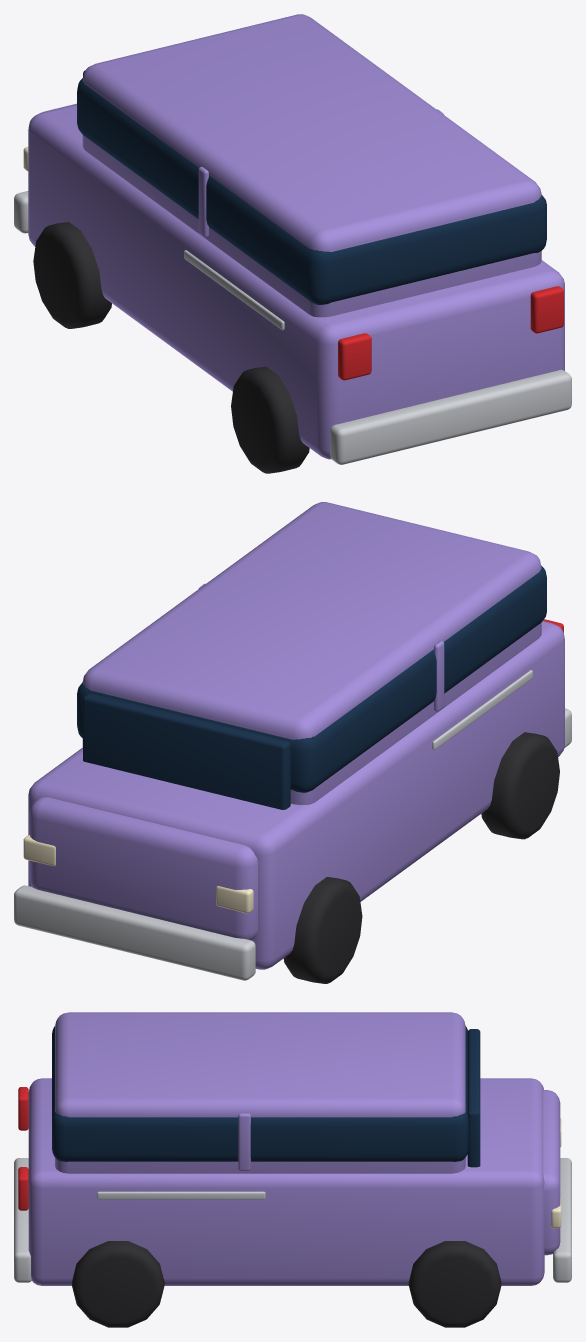
File: minivan-lavender.glb
3 views of the same model, one above another, from view 1: azimuth 30°, elevation 25°; view 2: azimuth 150°, elevation 25°; view 3: azimuth 270°, elevation 25° (orthographic). The views are drawn at different scales.
Parts seen in each view (by area): view 1: Van_Cabin, Van_Body, Van_GlassBand, Van_BumpR, Wheel_van2, Wheel_van0, Van_Tail_0, Van_Tail_1, Van_SlideRail_-1, Van_Bpil_-1, Van_BumpF; view 2: Van_Cabin, Van_Body, Van_Nose, Van_Windshield, Van_GlassBand, Van_BumpF, Wheel_van2, Wheel_van0, Van_SlideRail_-1, Van_Light_0, Van_Light_1, Van_Bpil_-1; view 3: Van_Body, Van_Cabin, Van_GlassBand, Wheel_van1, Wheel_van3, Van_Nose, Van_Windshield, Van_BumpF, Van_SlideRail_+1, Van_BumpR, Van_Bpil_+1, Van_Tail_0 (+1 smaller).
Boxes of the visible parts, box(x1,y1,x2,y2) form: Van_Cabin: box(82, 14, 541, 317); Van_Body: box(28, 104, 564, 459); Van_GlassBand: box(77, 78, 546, 304); Van_BumpR: box(330, 369, 571, 464); Wheel_van2: box(231, 366, 309, 473); Wheel_van0: box(33, 222, 111, 328); Van_Tail_0: box(338, 333, 371, 380); Van_Tail_1: box(530, 286, 563, 333); Van_SlideRail_-1: box(184, 250, 284, 330); Van_Bpil_-1: box(198, 166, 208, 237); Van_BumpF: box(14, 191, 28, 233); Van_Cabin: box(82, 502, 541, 804); Van_Body: box(28, 621, 564, 969); Van_Nose: box(29, 797, 257, 940); Van_Windshield: box(83, 693, 290, 809); Van_GlassBand: box(77, 565, 546, 792); Van_BumpF: box(14, 885, 255, 980); Wheel_van2: box(481, 732, 559, 839); Wheel_van0: box(283, 877, 362, 983); Van_SlideRail_-1: box(432, 670, 532, 750); Van_Light_0: box(216, 886, 253, 913); Van_Light_1: box(23, 835, 55, 866); Van_Bpil_-1: box(434, 641, 444, 711); Van_Body: box(28, 1078, 544, 1285); Van_Cabin: box(55, 1012, 465, 1173); Van_GlassBand: box(52, 1026, 468, 1161); Wheel_van1: box(408, 1241, 501, 1327); Wheel_van3: box(72, 1241, 164, 1327); Van_Nose: box(543, 1090, 560, 1255); Van_Windshield: box(467, 1029, 480, 1167); Van_BumpF: box(553, 1158, 571, 1282); Van_SlideRail_+1: box(97, 1191, 265, 1199); Van_BumpR: box(14, 1158, 31, 1282); Van_Bpil_+1: box(238, 1113, 250, 1171); Van_Tail_0: box(18, 1087, 28, 1130).
Bounding box in the file's own units: 2.65 × 2.26 × 5.3.
